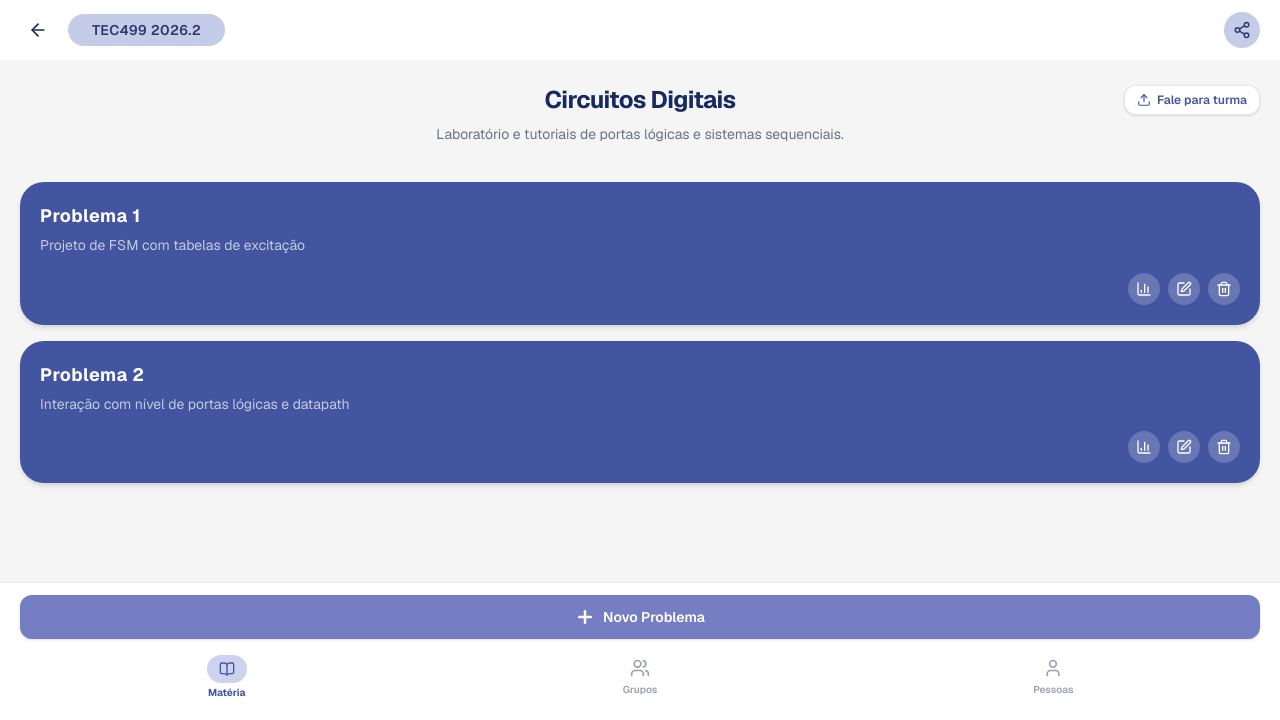
Test: [US05] Integração da página de disciplinas (CRUD de problemas) › Deve pedir confirmação, excluir com DELETE, refazer a lista e avisar com toast
This screenshot has width=1280, height=720.
Expected: the heading "Problema 1" is shown, [40,204,141,227]
Click the 1st button named "Delete problem".
click(1224, 288)  # box [1208,272,1240,304]
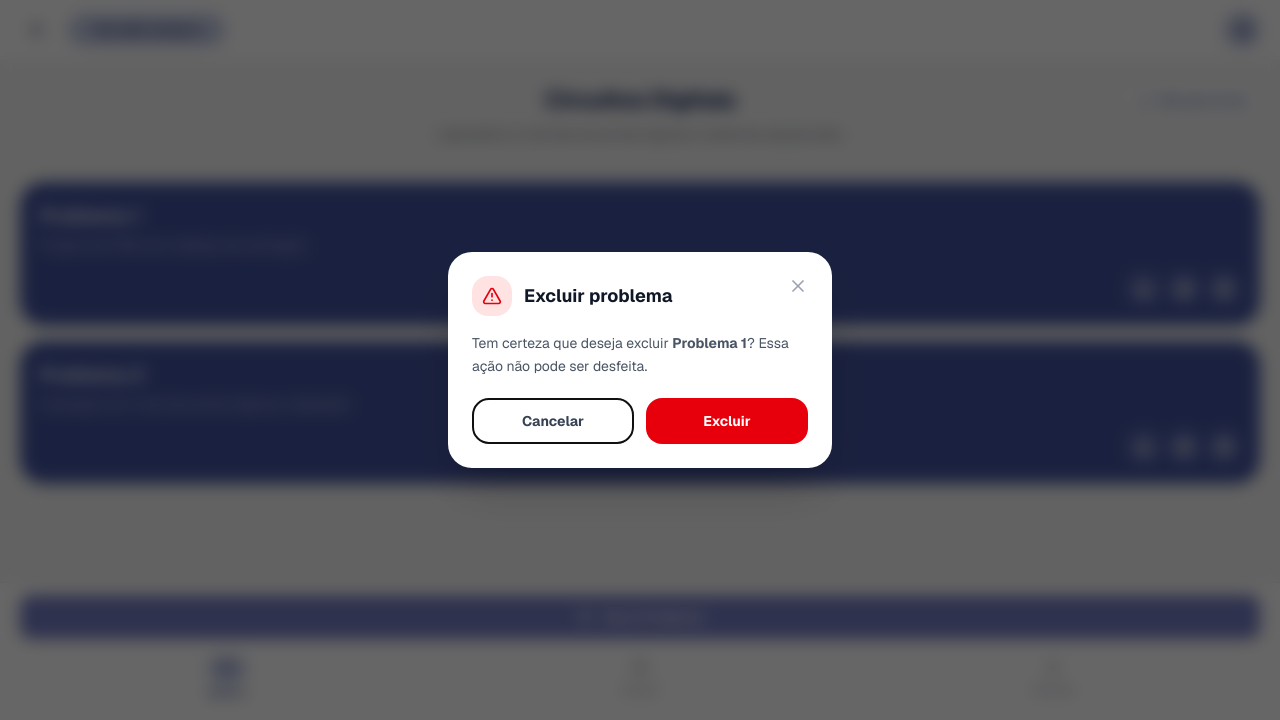
Expected: the dialog "Excluir problema" shows "Problema 1", [672,334,747,352]
Expected: the dialog "Excluir problema" shows "não pode ser desfeita", [472,334,789,375]
Click the button "Excluir".
click(727, 421)  # box [646,398,808,444]
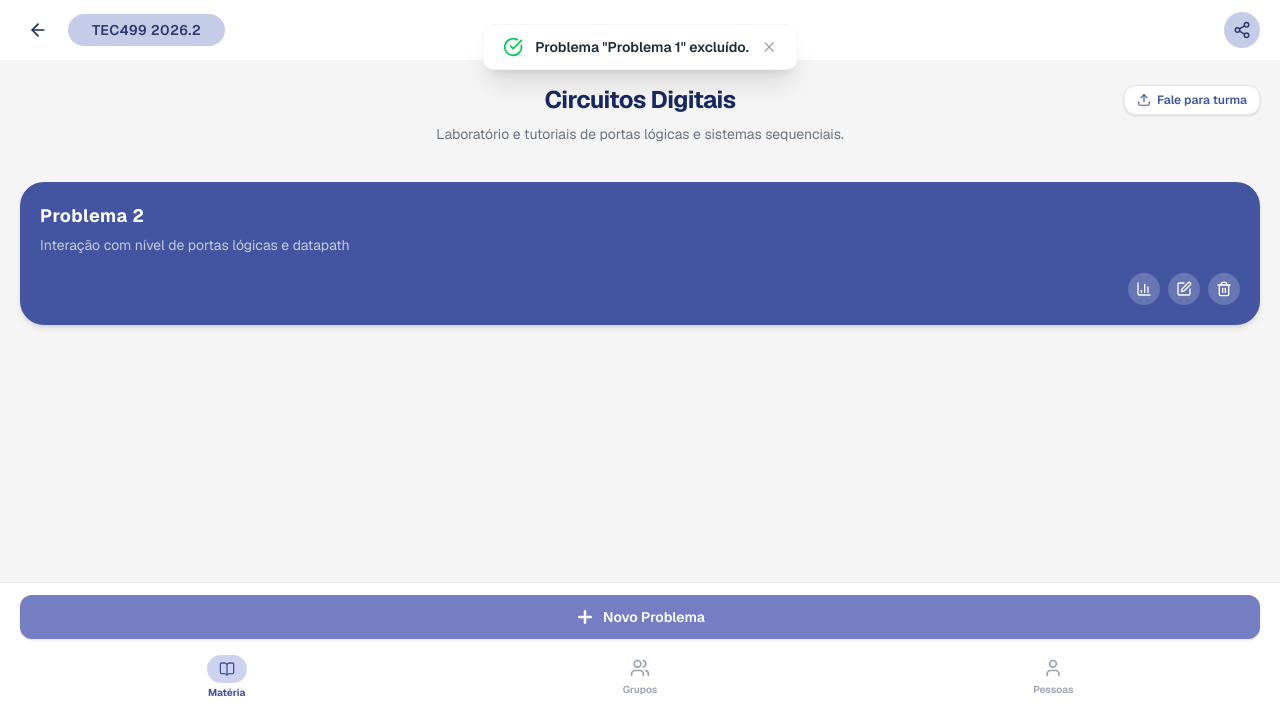
Expected: the text "Problema \"Problema 1\" excluído." is shown, [535,37,749,57]
Expected: the dialog is gone
